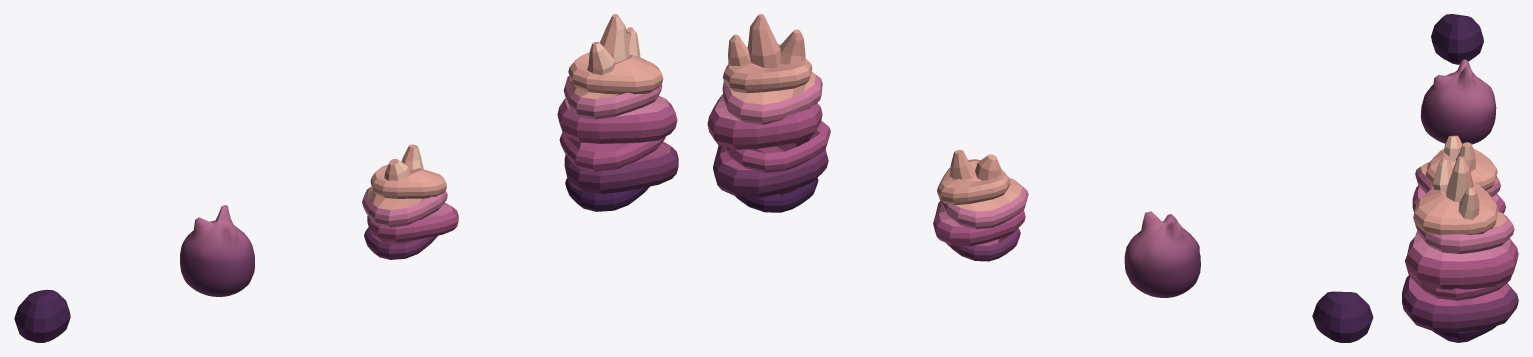
3 renders of one model, left to right at view 1: azimuth 30°, elevation 25°; view 2: azimuth 150°, elevation 25°; view 3: azimuth 270°, elevation 25°, orthographic. The views are drawn at different scales.
Visible parts, largest first — view 1: I_4, I_3, I_2, I_1; view 2: I_4, I_3, I_2, I_1; view 3: I_4, I_2, I_3, I_1.
Part boxes in pixels (x1,y1,x2,y2): I_4: [557, 14, 678, 211]; I_3: [362, 144, 458, 259]; I_2: [180, 205, 254, 296]; I_1: [14, 289, 70, 342]; I_4: [707, 14, 830, 212]; I_3: [933, 150, 1028, 261]; I_2: [1124, 211, 1200, 297]; I_1: [1312, 291, 1373, 342]; I_4: [1402, 156, 1518, 342]; I_2: [1420, 59, 1496, 144]; I_3: [1412, 135, 1505, 213]; I_1: [1431, 14, 1483, 64].
Bounding box in the file's own units: 359 × 95.18 × 57.33.
